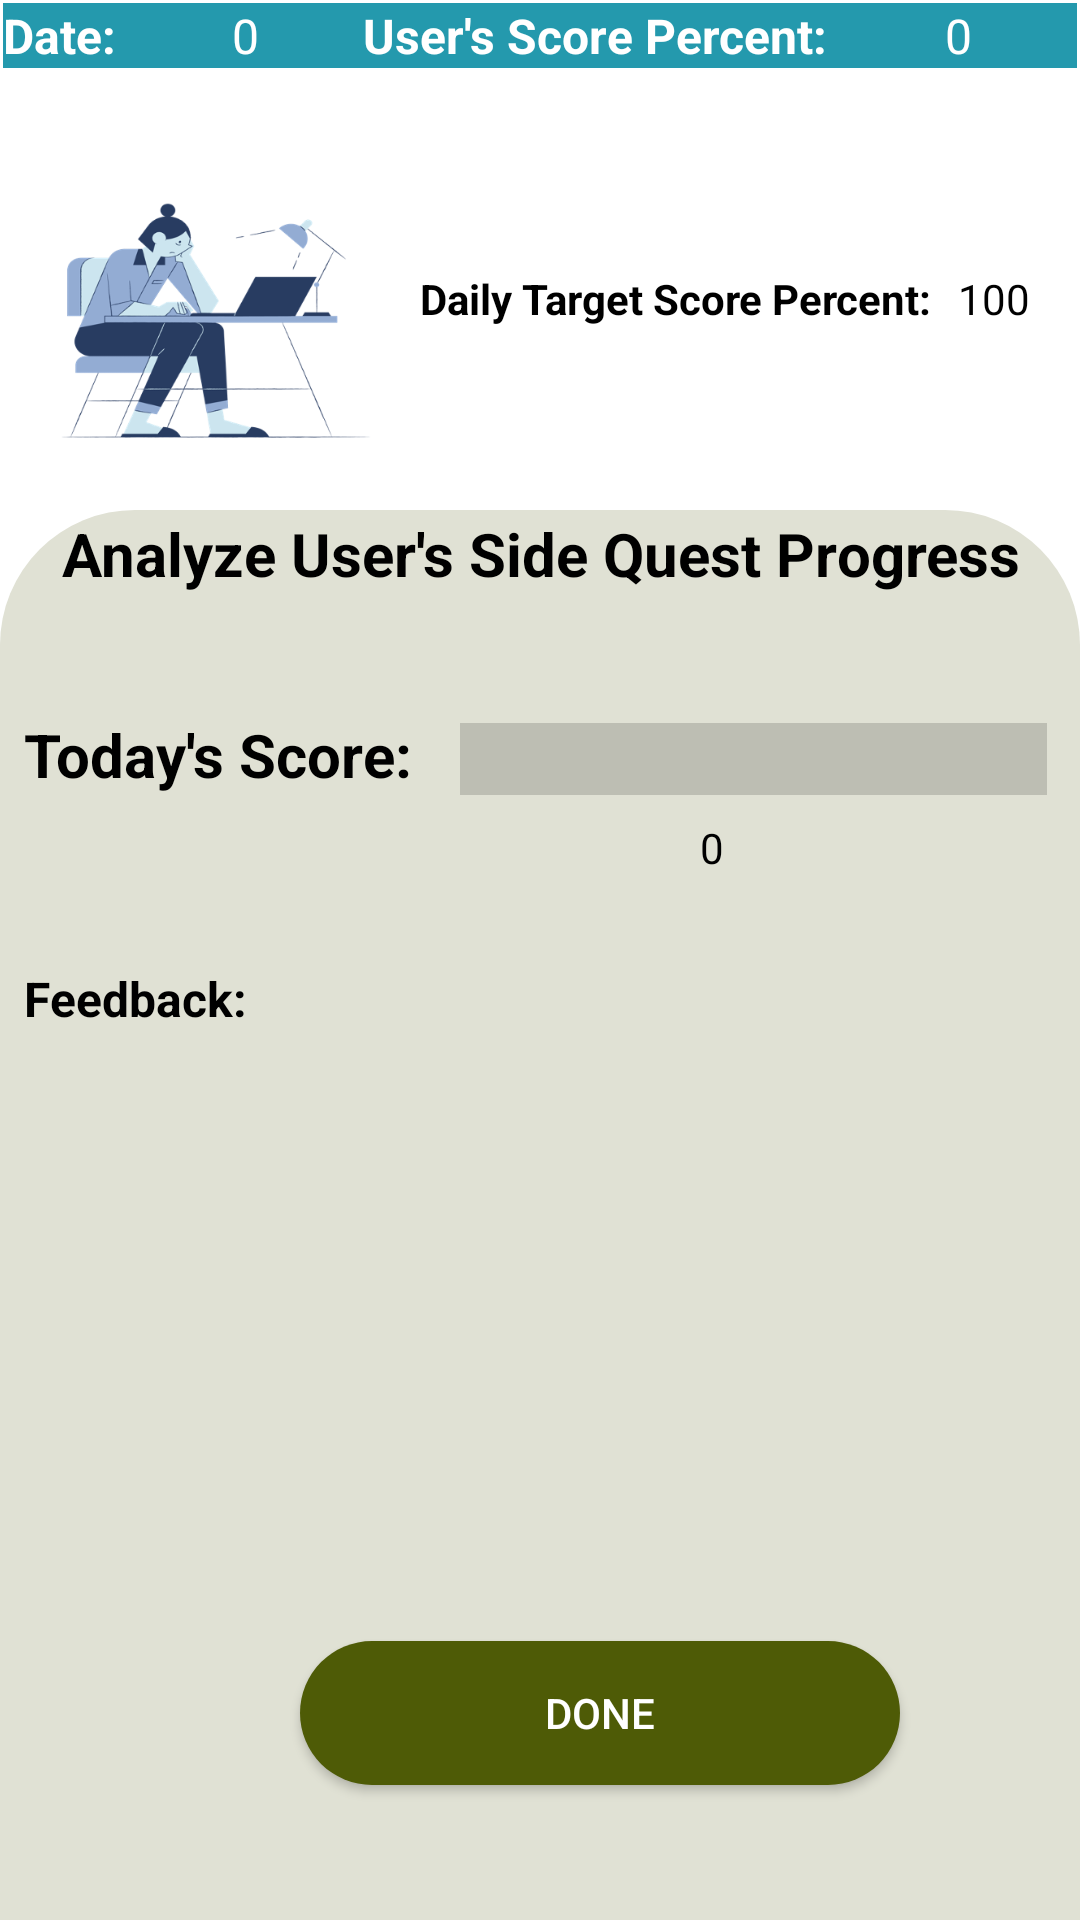

Icon click points for this 1080x1920 phone screenshot, format [x,y]:
think fast analyze progress: [215,320]
